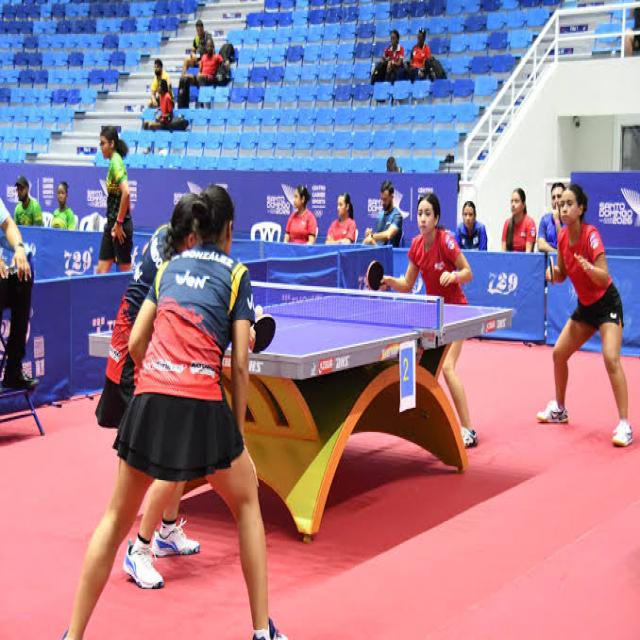TT Net: (213, 272, 440, 337)
TT Racket: (249, 310, 280, 356), (360, 255, 387, 293), (548, 253, 557, 289)
TT Table: (89, 293, 512, 359)
